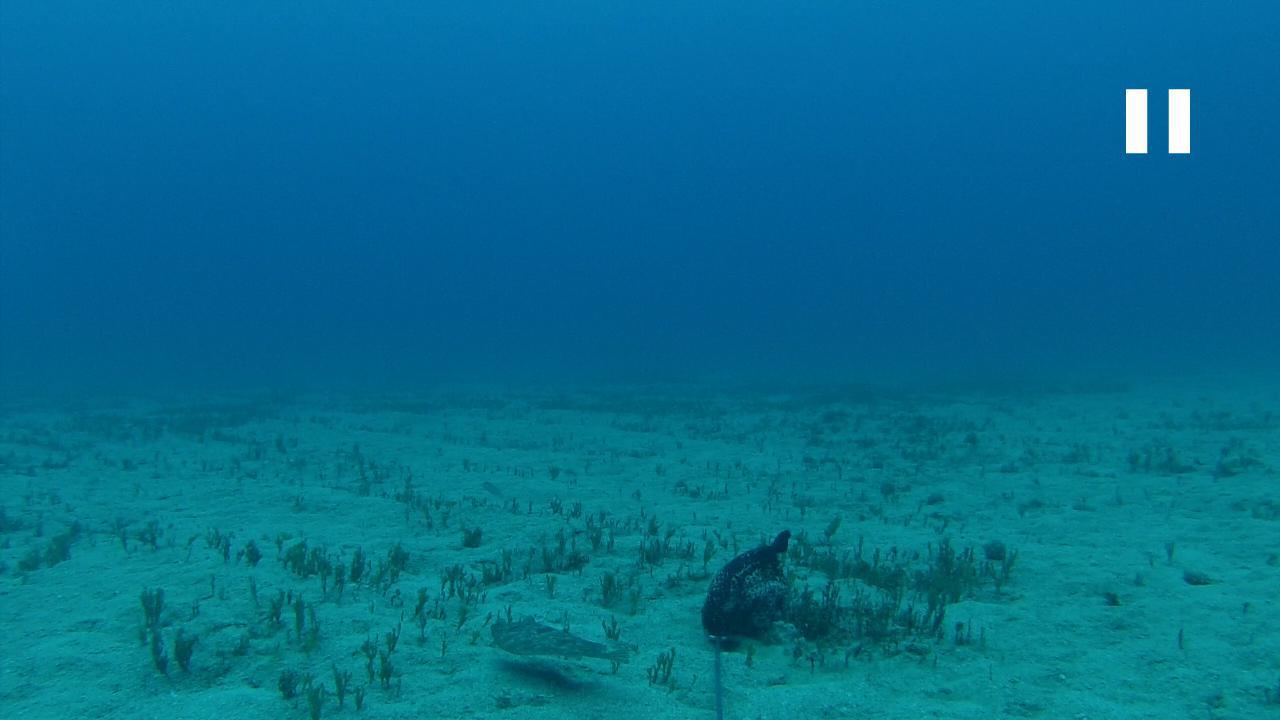bothus: (486, 614, 633, 663)
